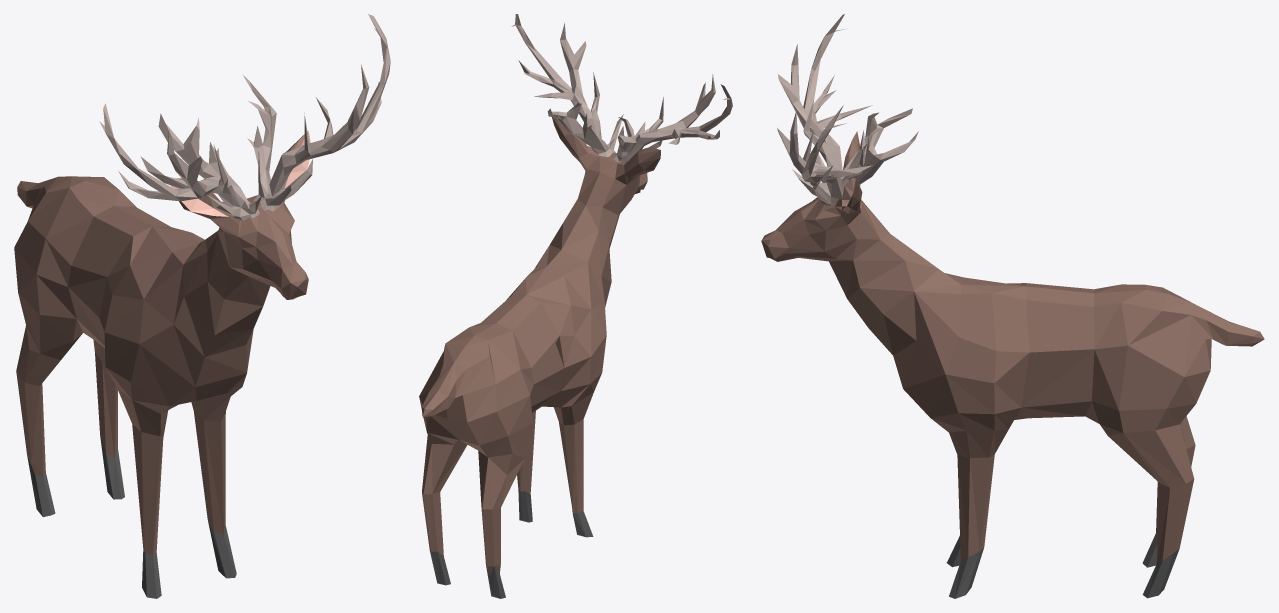
The model's file is animal_013.glb.
3 views of the same model, side by side, from view 1: azimuth 30°, elevation 25°; view 2: azimuth 150°, elevation 25°; view 3: azimuth 270°, elevation 25° (orthographic). The views are drawn at different scales.
Parts seen in each view (by area): view 1: animal_013; view 2: animal_013; view 3: animal_013.
Part boxes in pixels (x1=…): animal_013: x1=14, y1=14, x2=390, y2=598; animal_013: x1=419, y1=14, x2=732, y2=598; animal_013: x1=761, y1=14, x2=1264, y2=598.
Bounding box in the file's own units: 2.3 × 4.64 × 4.03.
1 material, 1 textured.
